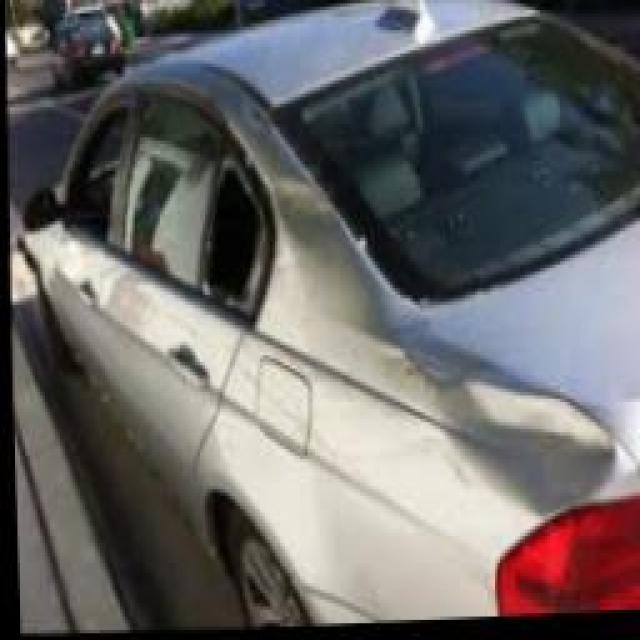Fender: (199, 91, 640, 625)
